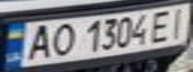0: (115, 12, 136, 48)
1: (78, 17, 103, 52)
3: (100, 16, 121, 51)
4: (130, 11, 154, 46)
A: (21, 22, 57, 61)
E: (148, 8, 175, 43)
I: (163, 5, 193, 39)
O: (45, 20, 78, 57)
